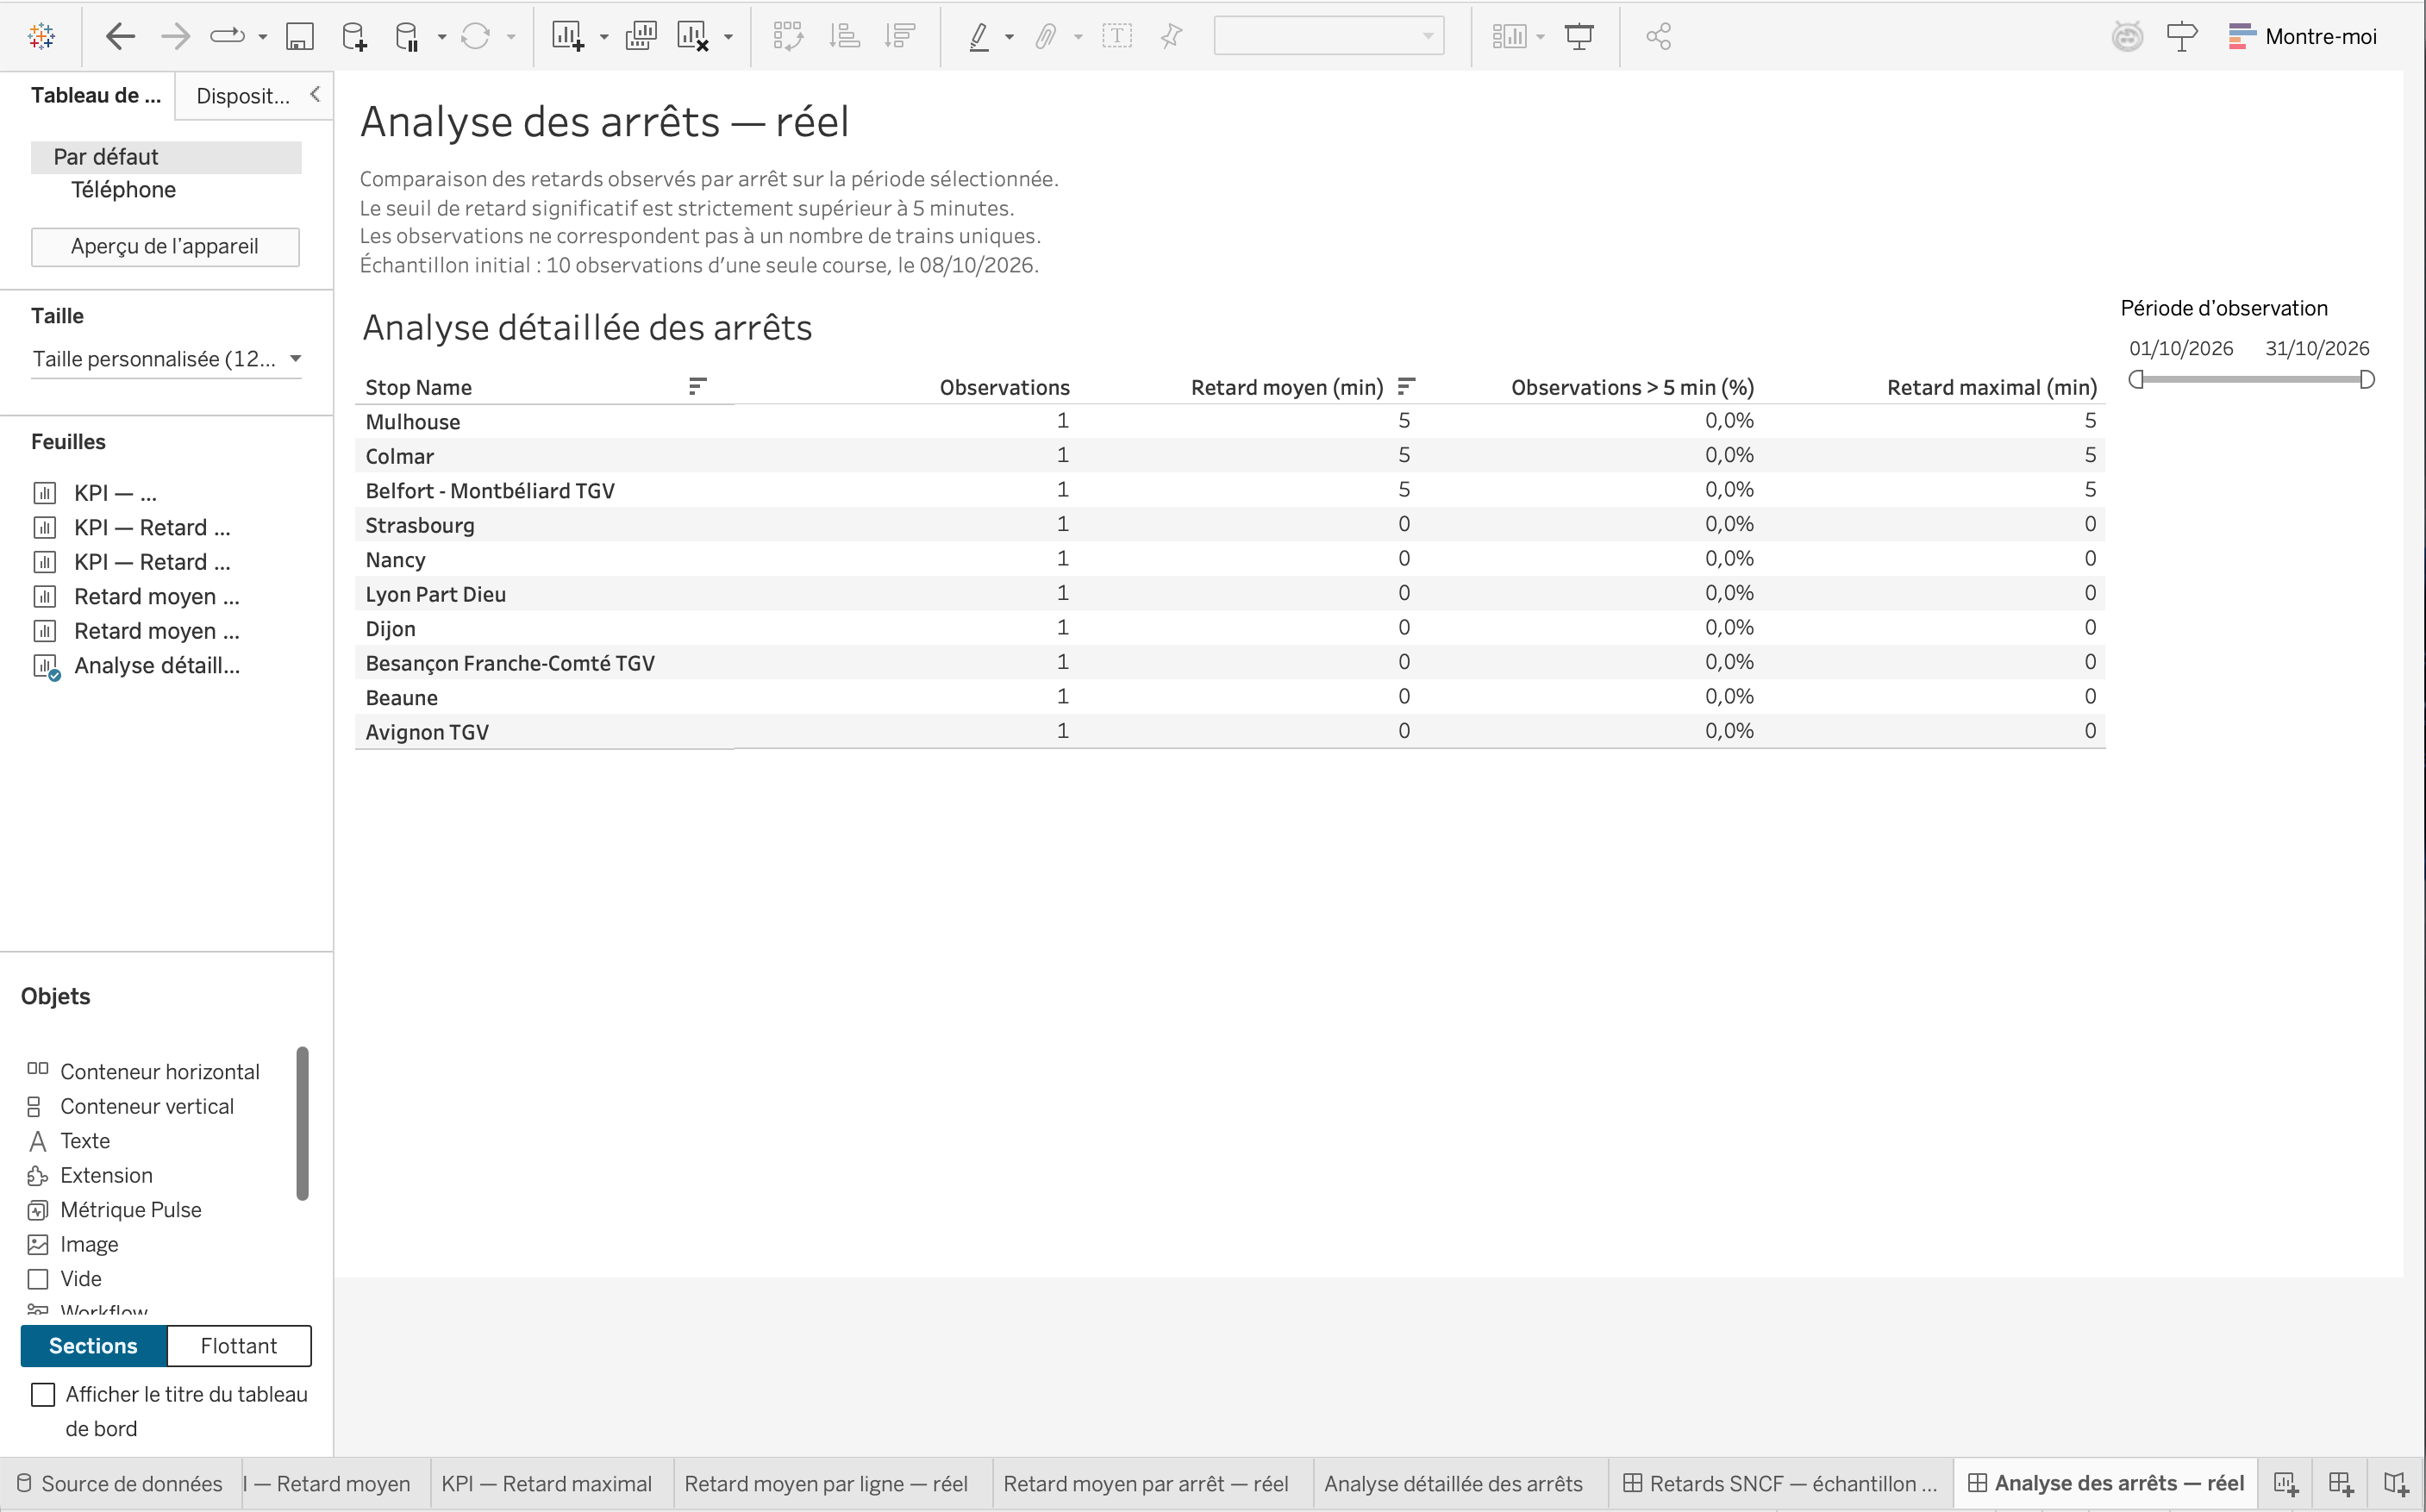

The dashboard page shown, as its layout file describes it:
{"tool":"tableau","page":{"name":"Analyse des arrêts — réel","canvas":[1200,700],"ordinal":0},"visuals":[{"type":"title","box":[8,8,1184,42]},{"type":"text","box":[8,50,1184,76]},{"type":"worksheet","title":"Analyse détaillée des arrêts","mark":"Automatic","rows":["stop_name"],"box":[8,126,1024,566]},{"type":"filter","title":"Analyse détaillée des arrêts","param":"[federated.1kyb8q71jfap701b6w80d1prqidu].[none:event_date:qk]","box":[1032,126,160,69]}]}

Visuals, with their boxes on the page's 1200x700 design canvas (x1, y1, x2, y2). These are canvas units, not pixel positions in the 2426x1512 screenshot, which may show the page scaled, cropped or inside an application window:
title: l=8, t=8, r=1192, b=50
text: l=8, t=50, r=1192, b=126
"Analyse détaillée des arrêts" worksheet: l=8, t=126, r=1032, b=692
"Analyse détaillée des arrêts" filter: l=1032, t=126, r=1192, b=195
